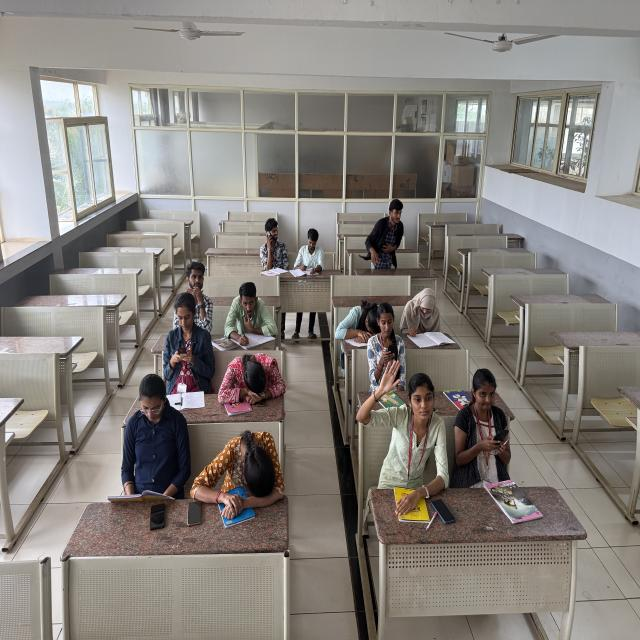Hand Rising: (358, 358, 448, 488)
Reading: (107, 374, 189, 504)
Sleeping: (188, 422, 288, 512), (216, 348, 288, 411), (327, 296, 390, 346)
Using Phone: (453, 360, 516, 476), (157, 292, 214, 386), (365, 302, 406, 384), (258, 215, 288, 268)
Writing: (224, 282, 278, 346), (398, 286, 452, 345), (294, 226, 326, 277)
